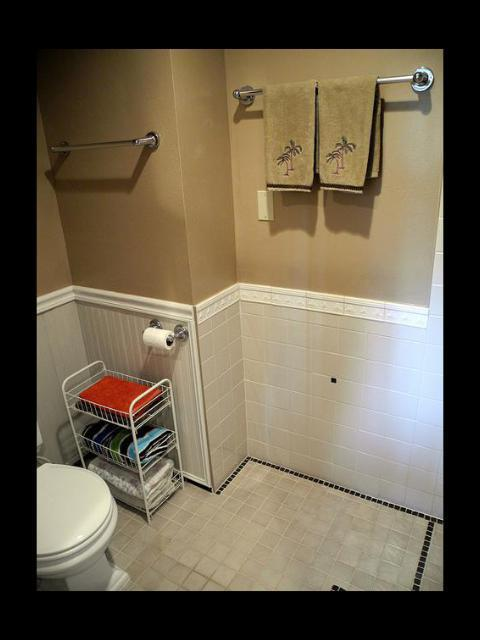Sanitario: (37, 418, 129, 590)
